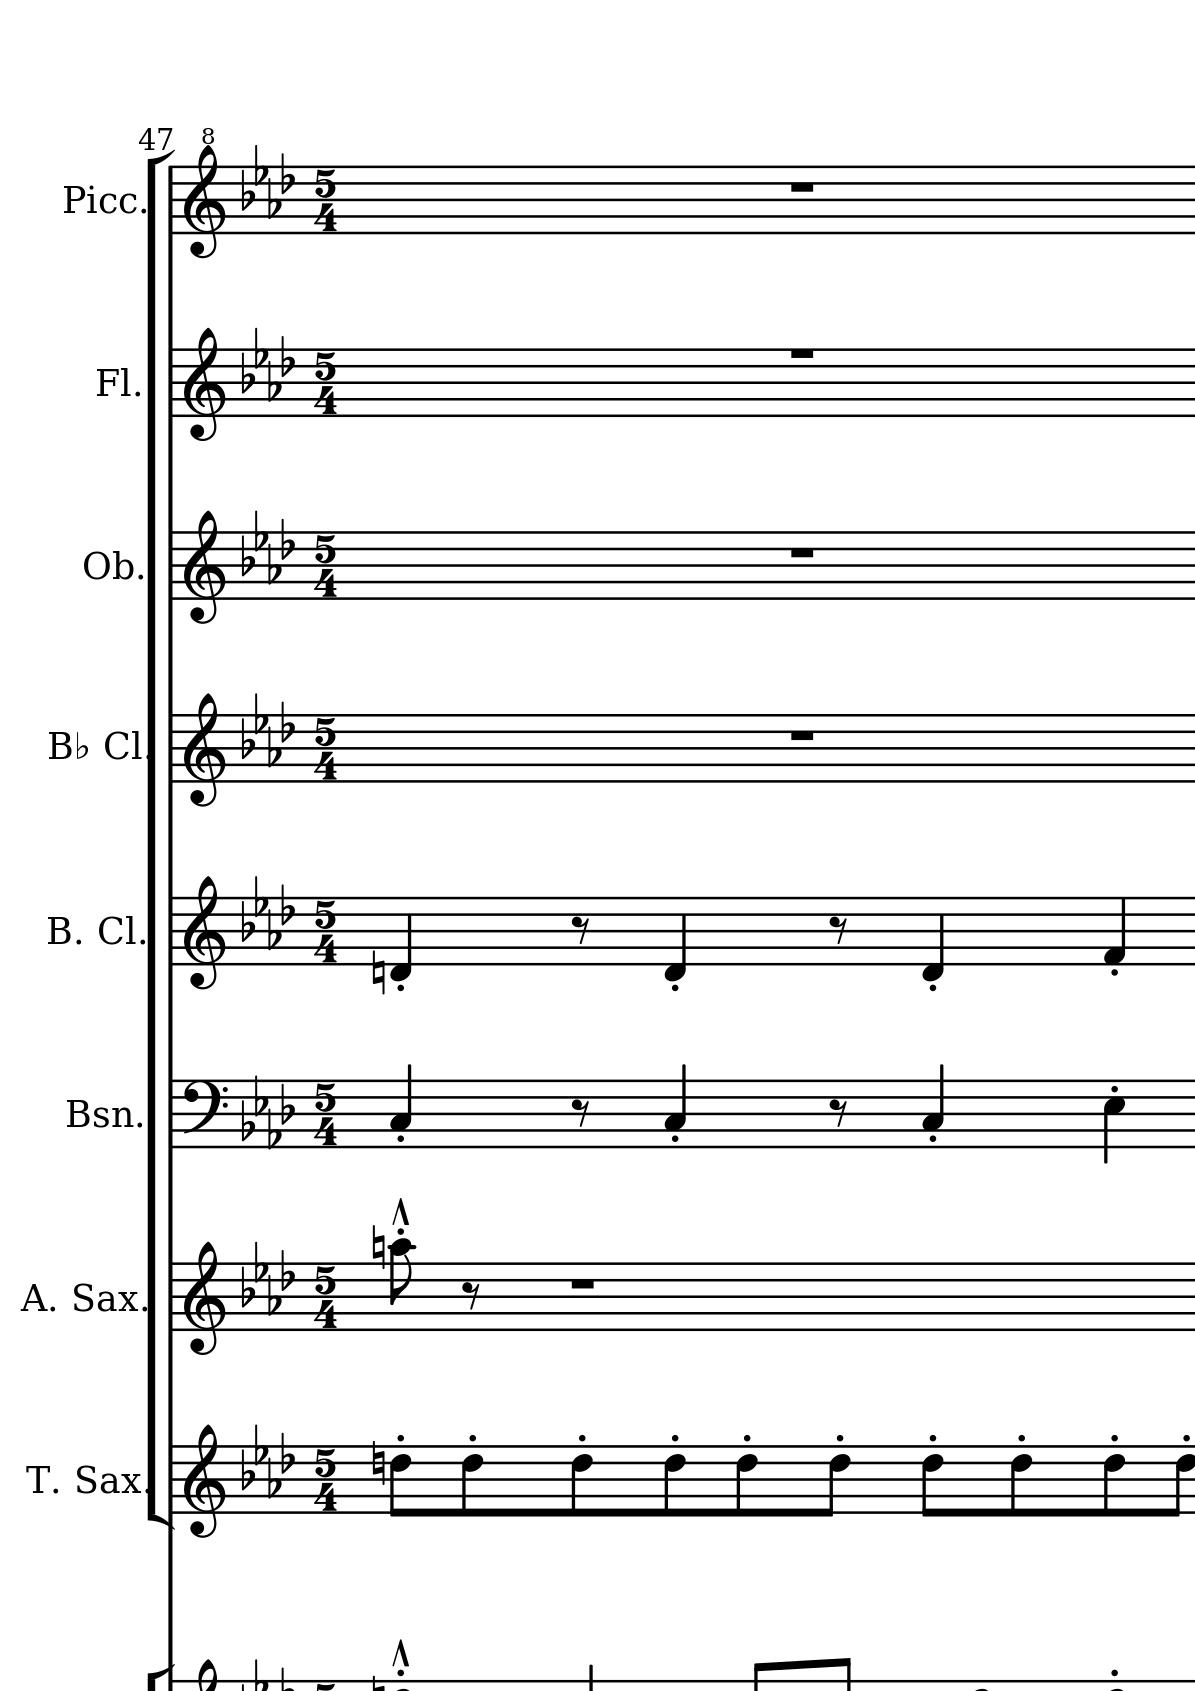4: (310, 564, 341, 599), (310, 198, 341, 231), (310, 381, 340, 416), (310, 930, 340, 964), (310, 1479, 341, 1511), (312, 747, 341, 781), (310, 1112, 340, 1145), (310, 1295, 340, 1329), (138, 125, 156, 153)
4_-1: (662, 895, 688, 983), (921, 895, 945, 983), (388, 896, 413, 983)
4_1: (1102, 896, 1128, 967)
4_3: (388, 1063, 413, 1151), (921, 1063, 945, 1151), (663, 1063, 687, 1151)
4_5: (1101, 1078, 1126, 1166)
5: (310, 896, 338, 931), (312, 164, 339, 198), (310, 531, 338, 565), (312, 714, 339, 747), (312, 1444, 338, 1479), (312, 348, 338, 381), (312, 1079, 338, 1113), (312, 1262, 338, 1295)
7: (156, 123, 175, 150)
8_10: (387, 1239, 416, 1334)
8_6: (819, 1444, 851, 1519), (1165, 1444, 1195, 1519), (920, 1445, 945, 1520), (1009, 1444, 1035, 1519), (388, 1444, 413, 1519), (569, 1444, 594, 1519), (735, 1444, 759, 1519), (1102, 1444, 1126, 1519), (460, 1444, 484, 1519), (663, 1444, 687, 1519)
A_F: (235, 870, 297, 953), (235, 322, 297, 403), (235, 505, 297, 586), (235, 1420, 296, 1501), (235, 689, 297, 768), (235, 141, 297, 218), (234, 1239, 296, 1315), (237, 1070, 296, 1149)
Brace: (144, 147, 175, 1533)
Bsn: (63, 1092, 133, 1136)
Cl: (94, 909, 138, 954), (101, 724, 141, 768)
Fclef: (180, 1078, 229, 1151)
Fl: (91, 363, 135, 402)
Gclef: (181, 1422, 228, 1541), (182, 690, 228, 811), (182, 1239, 228, 1357), (182, 326, 228, 443), (182, 508, 228, 626), (182, 874, 228, 992)
High_Gclef: (182, 124, 224, 260)
Marcato_above: (391, 1195, 413, 1226)
Natural: (369, 948, 385, 995), (369, 1440, 385, 1488), (370, 1223, 385, 1271)
Ob: (81, 544, 137, 587)
Picc: (61, 180, 135, 217)
Rests1: (786, 543, 817, 562), (785, 727, 817, 745), (786, 178, 817, 197), (786, 345, 817, 363), (566, 1276, 597, 1292)
Rests8: (569, 914, 592, 946), (826, 914, 848, 946), (460, 1280, 482, 1312), (569, 1098, 591, 1129), (826, 1098, 848, 1129)
Sax: (70, 1280, 138, 1320), (72, 1463, 140, 1501)
Single_barline: (163, 165, 182, 234), (162, 349, 181, 418), (162, 1079, 181, 1147), (163, 714, 181, 783), (163, 1445, 181, 1515), (163, 897, 181, 966), (163, 1263, 181, 1332), (163, 533, 181, 599)
TimeSig: (312, 897, 340, 966), (312, 1445, 340, 1514), (312, 1262, 339, 1332), (312, 714, 338, 783), (312, 1079, 338, 1148), (313, 165, 338, 235), (313, 348, 338, 418), (313, 531, 338, 600)
